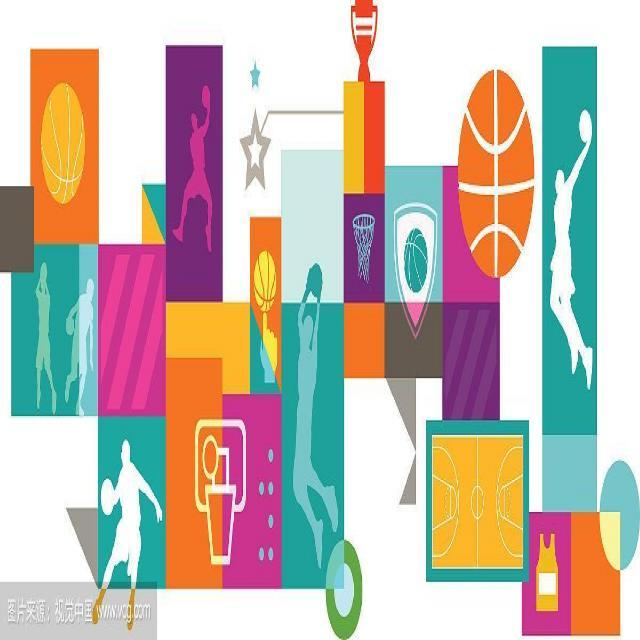rim: (456, 59, 534, 280)
